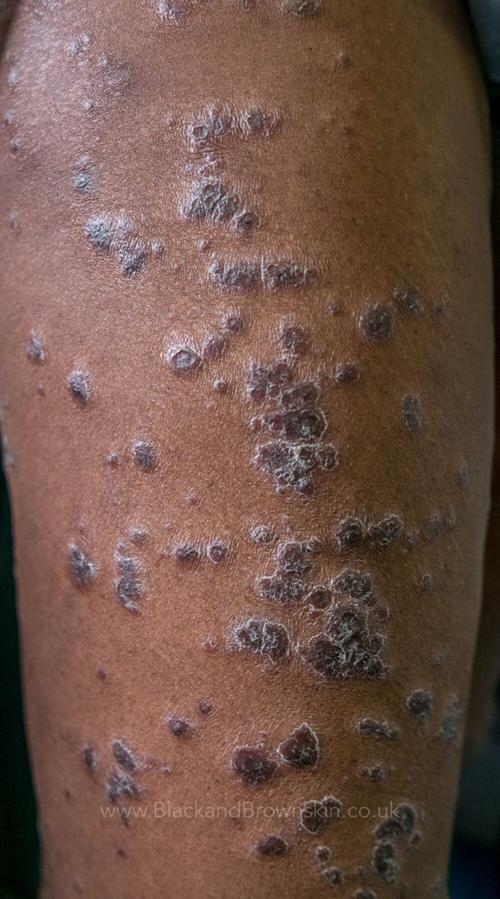hypertrophic lichen planus: (50, 49, 441, 785)
